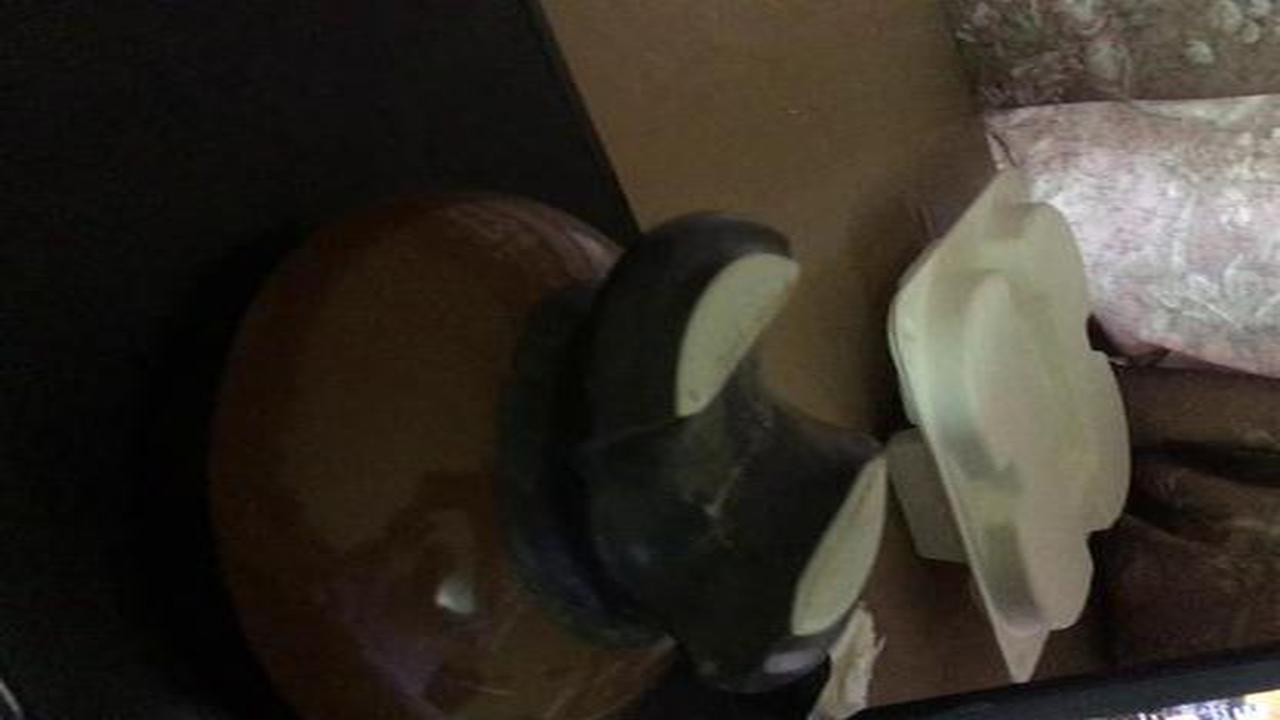insulator_pin: (164, 160, 914, 714)
